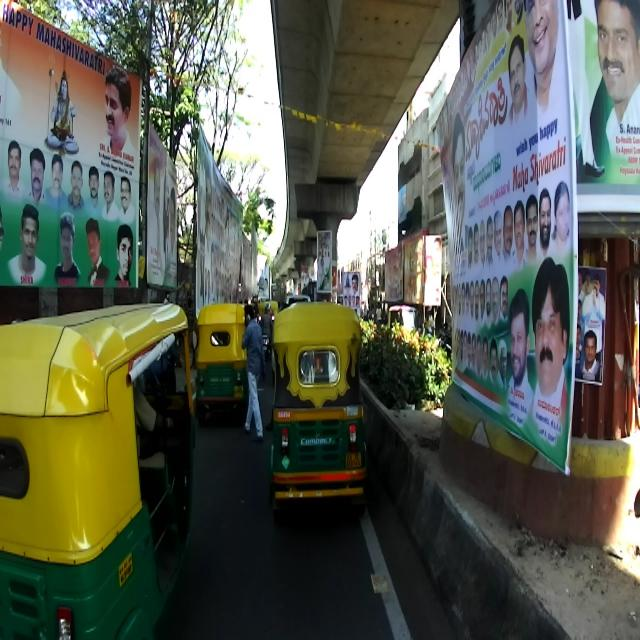autorickshaw: (0, 303, 196, 639), (267, 300, 367, 526), (194, 302, 250, 428)
